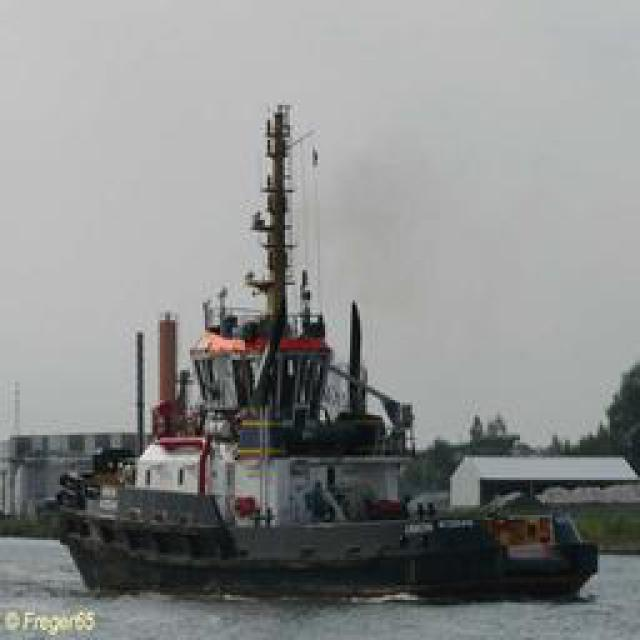Ship: (52, 176, 495, 594)
